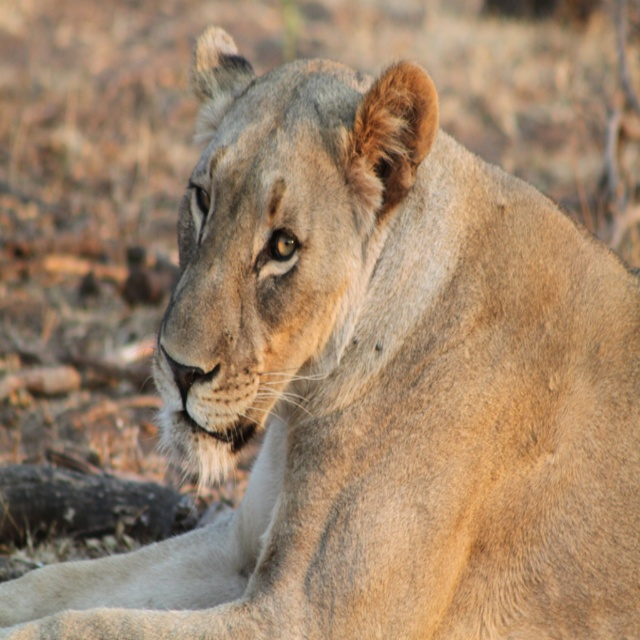Lion: (0, 22, 639, 639)
